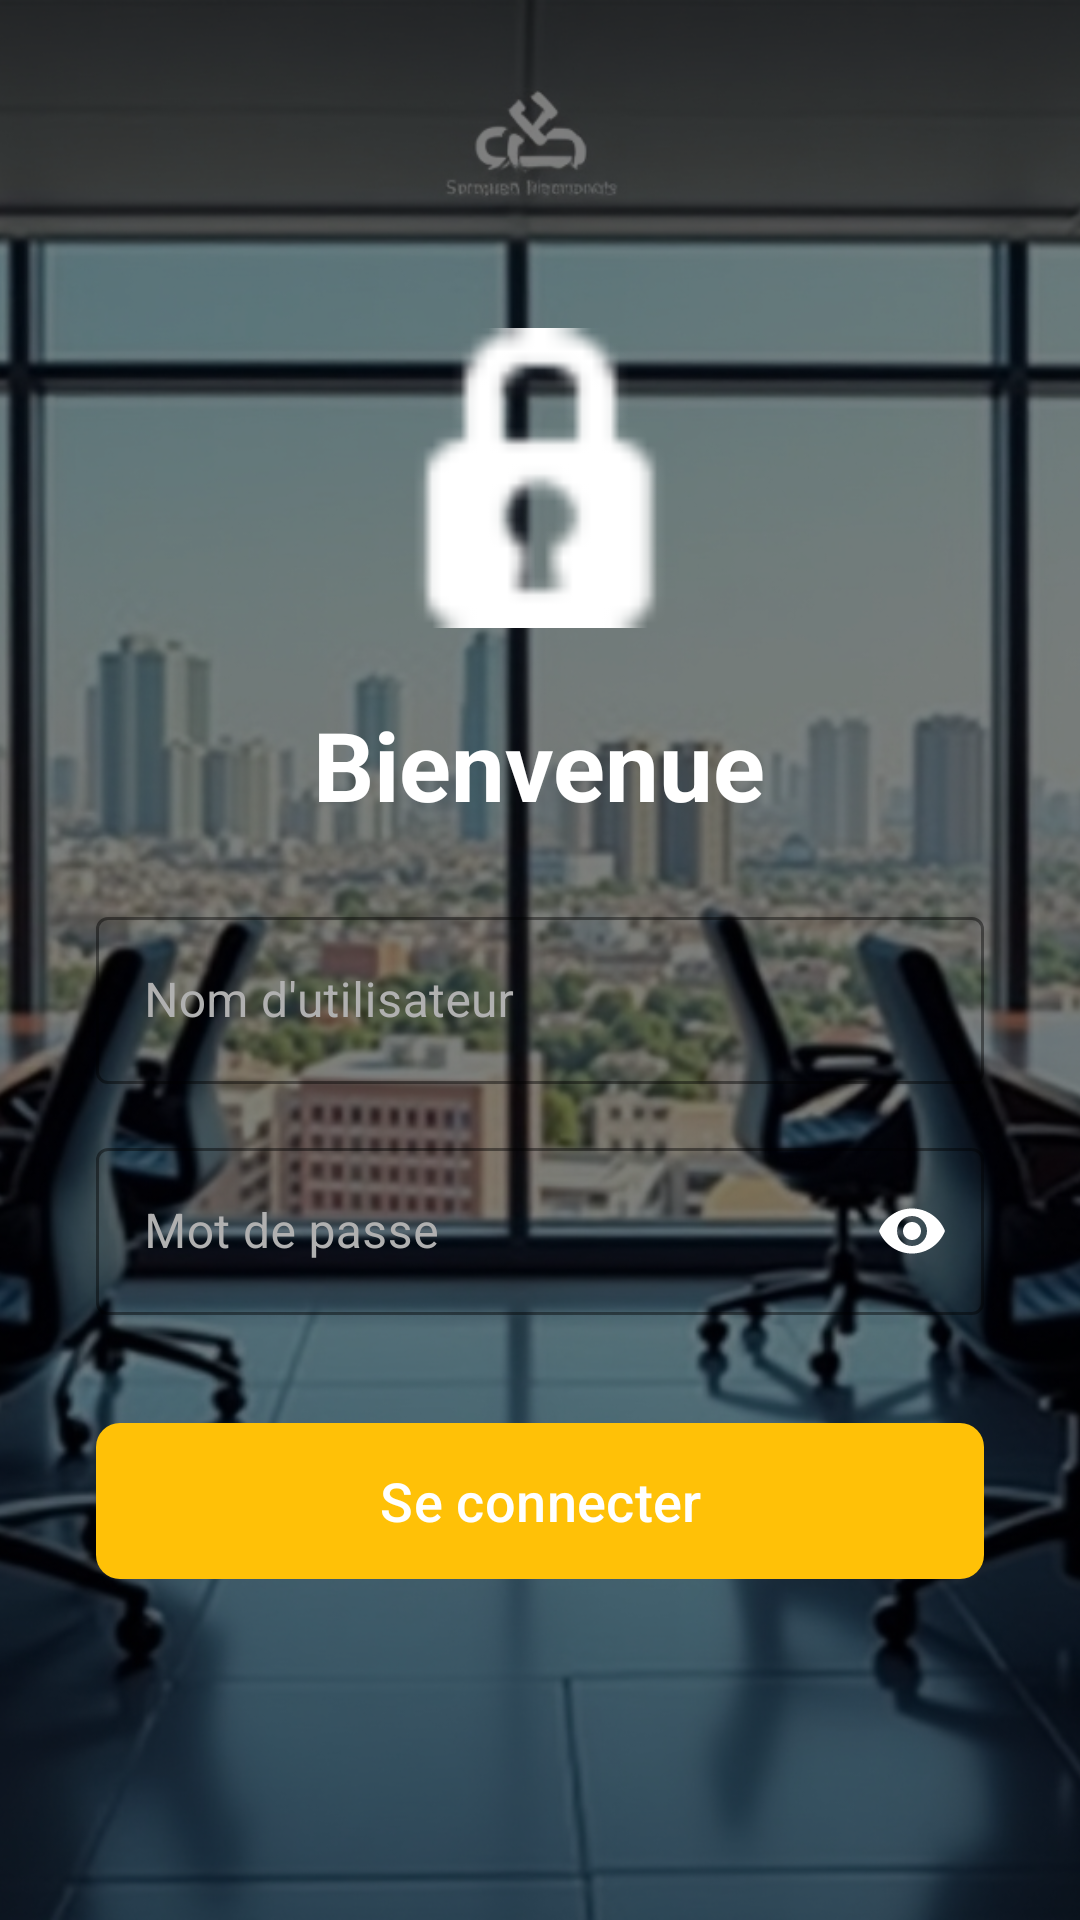

Screen size 1080*1920. Icon name, then its box in pixels as [left=x1, top=y1, right=x2, bottom=y2]:
secure: [left=390, top=328, right=690, bottom=628]
